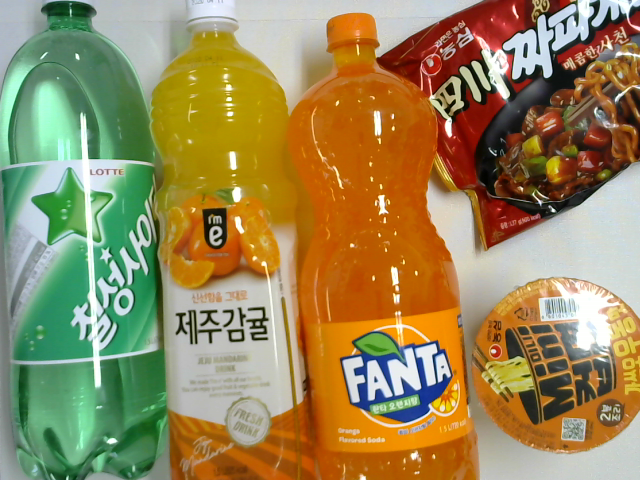Chilseong_Cider_1.5L: (1, 2, 168, 479)
Hwanta_Orange_1.5L: (285, 13, 479, 480)
Jeju_Tangerine_1.5L: (148, 1, 316, 480)
Sichuan_Chapaghetti: (372, 1, 639, 252)
Udongmini: (472, 277, 640, 455)
